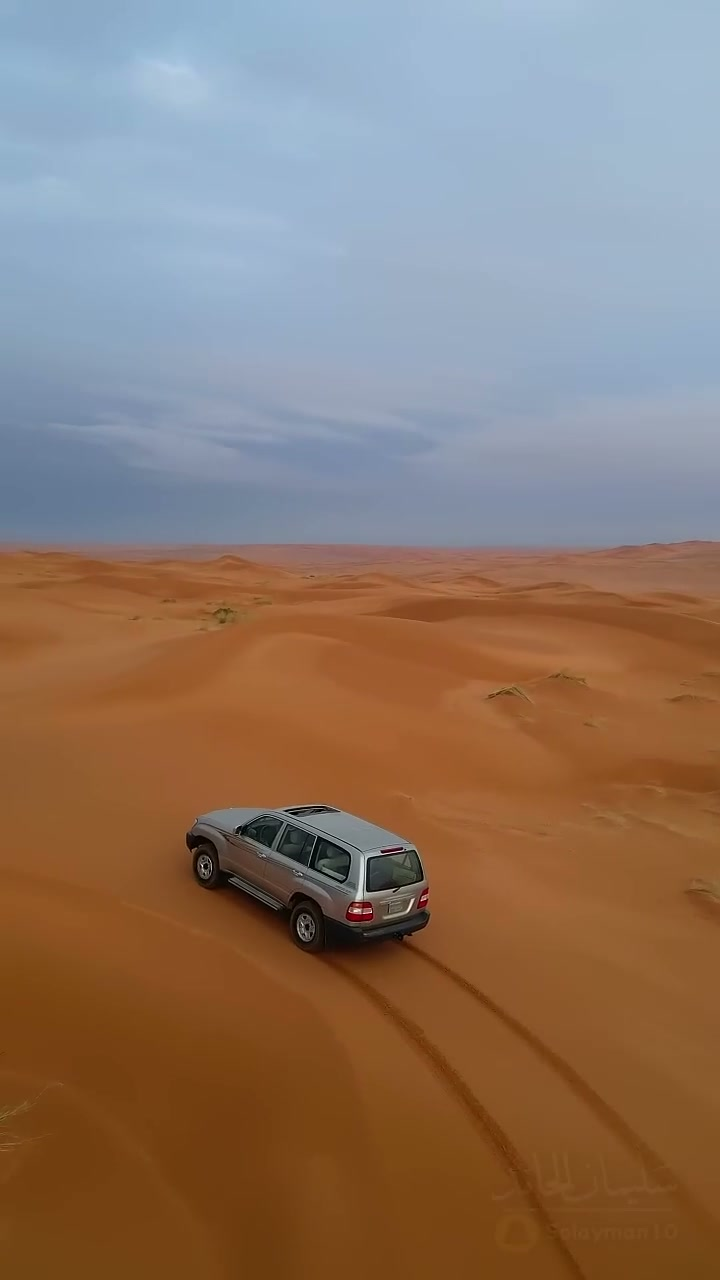vehicle_track: (403, 947, 719, 1240), (330, 958, 584, 1279)
